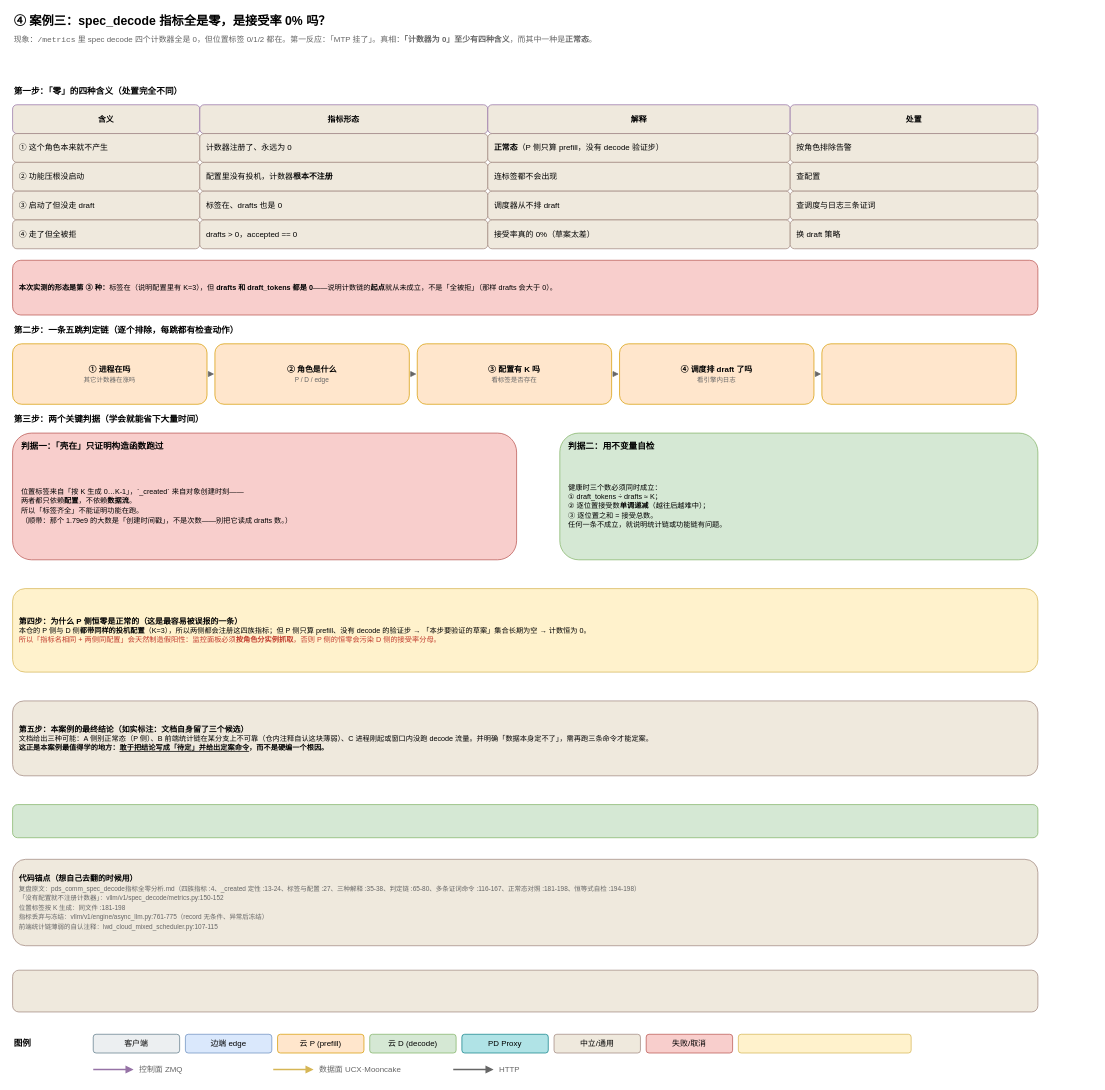
Image size: 1105x1090. Some labels were removed from this diagram. The shapes that lost their labels are listed below. From the top down, each one's centre as x and y in pixels, then its label:
At point (918, 373): "⑤ 统计送到了吗 看是否有丢弃/异常".
At point (525, 821): "本页交接：这是「静默失效」类故障。下一步（⑤）看最严重的一类——级联故障：一个请求放不下，最后整个集群挂住。".
At point (525, 990): "一句话记住这个案例： 看到「指标为零」先问三件事—— 这个角色该不该产生它？壳在是否等于在跑？分子为 0 还是分母为 0？ 答案不同，处置完全相反。".
At point (824, 1043): "正常态，不要告警".
